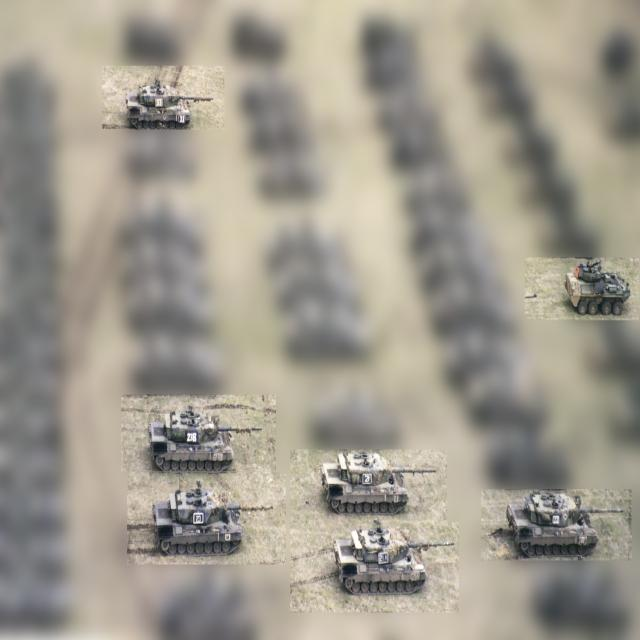tank: (153, 478, 274, 555), (333, 526, 455, 594), (147, 403, 264, 473), (505, 491, 626, 556), (320, 450, 438, 514), (125, 75, 215, 129), (563, 264, 632, 316)
